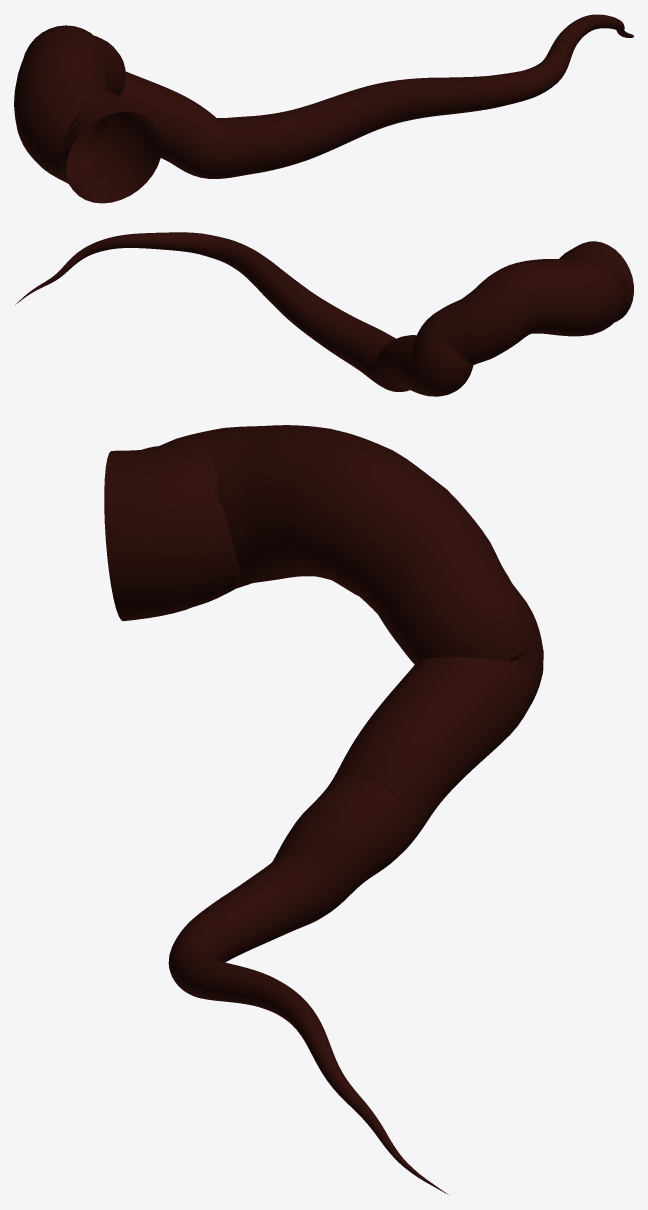
The model's file is RacineUv2.fbx.
3 renders of one model, top to bottom at view 1: azimuth 30°, elevation 25°; view 2: azimuth 150°, elevation 25°; view 3: azimuth 270°, elevation 25°, orthographic. The views are drawn at different scales.
Parts seen in each view (by area): view 1: Racine; view 2: Racine; view 3: Racine.
Boxes of the visible parts, bbox=[...] form: Racine: bbox=[14, 14, 633, 203]; Racine: bbox=[15, 232, 633, 396]; Racine: bbox=[104, 425, 543, 1194].
Bounding box in the file's own units: 1.55 × 0.4079 × 0.54.
